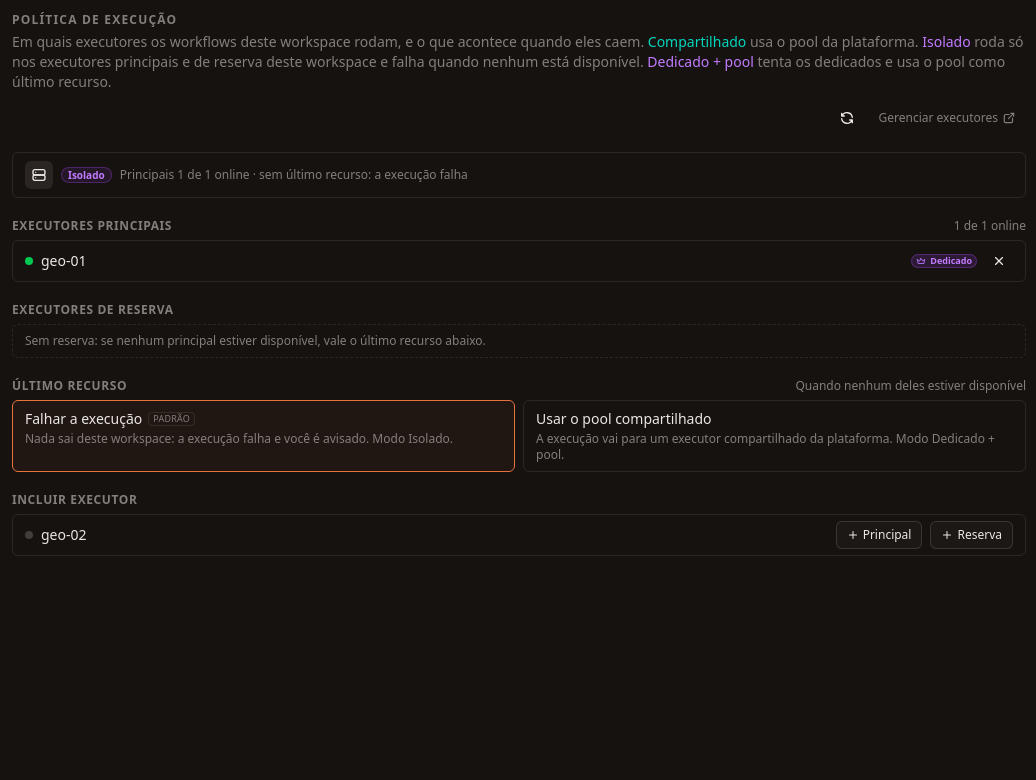
Test: editor da política — níveis › inclui um candidato entre os principais; o pool não é candidato
Expected: the text "geo-01" is shown, [41, 251, 86, 270]
Click the button with aria-label "Incluir geo-02 entre os principais" at x=879, y=535, box [836, 521, 922, 549]
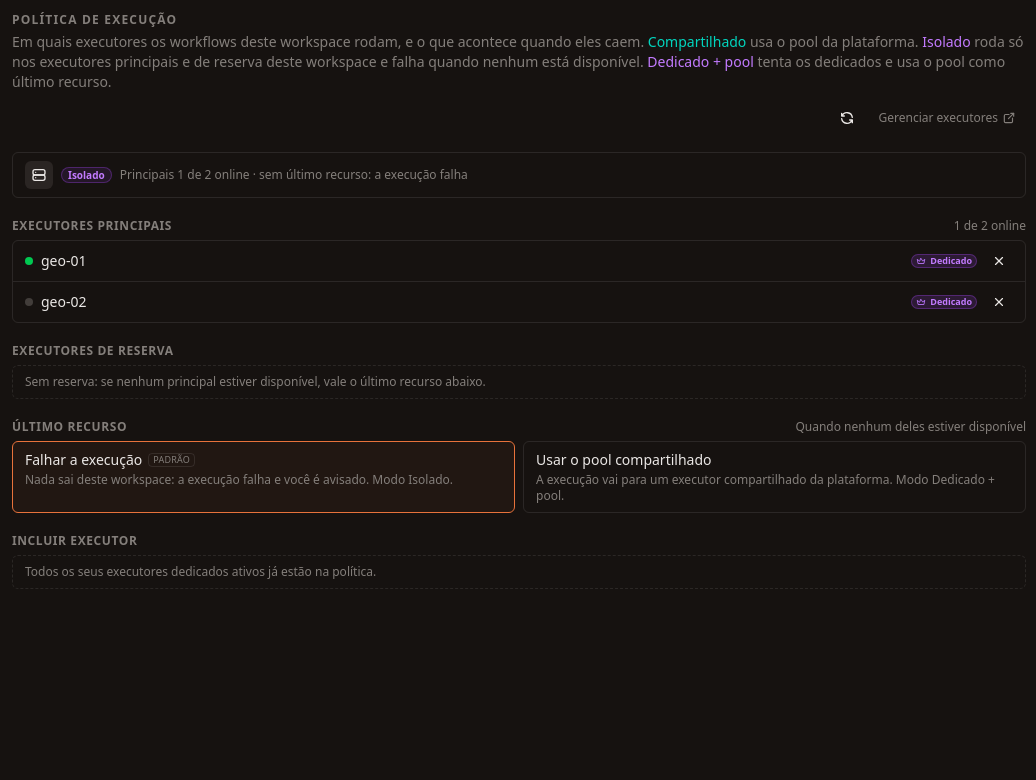
Now the text "1 de 2 online" is shown, box [954, 218, 1026, 234]
